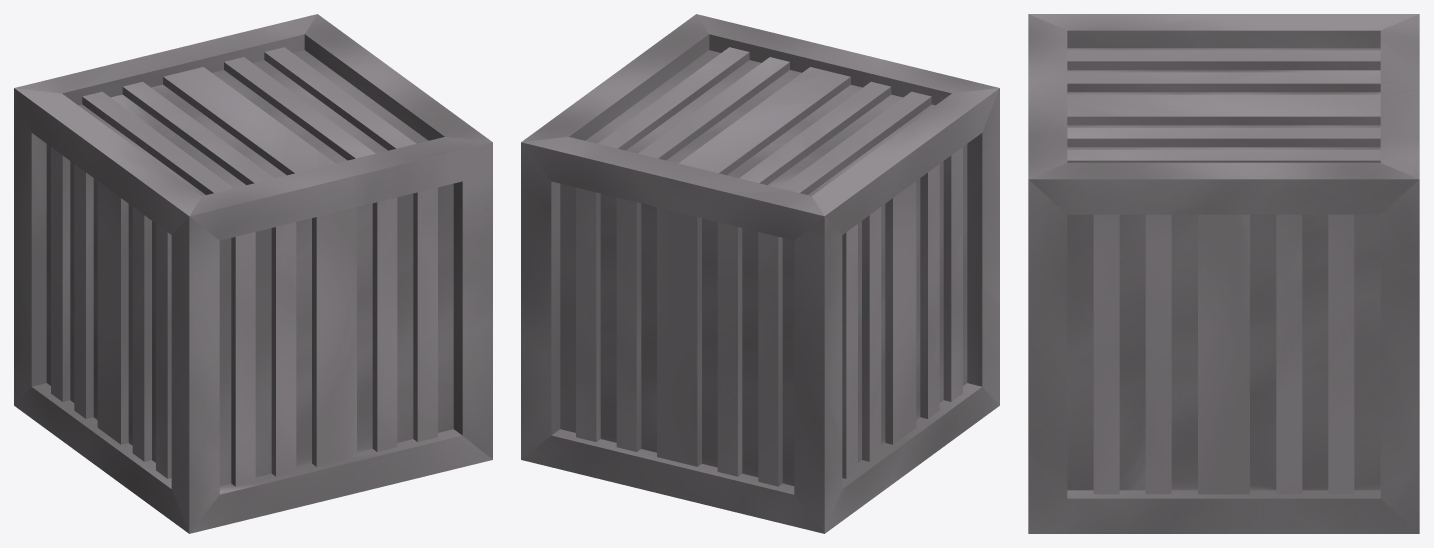
The model's file is Crate.glb.
The picture shows the model from 3 angles, left to right: view 1: azimuth 30°, elevation 25°; view 2: azimuth 150°, elevation 25°; view 3: azimuth 270°, elevation 25°; orthographic projection. The views are drawn at different scales.
Parts seen in each view (by area): view 1: Cube; view 2: Cube; view 3: Cube.
Part boxes in pixels (x1,y1,x2,y2): Cube: (14, 14, 492, 533); Cube: (521, 14, 999, 533); Cube: (1028, 14, 1419, 533).
Bounding box in the file's own units: 2 × 2 × 2.
1 material, 1 textured.
